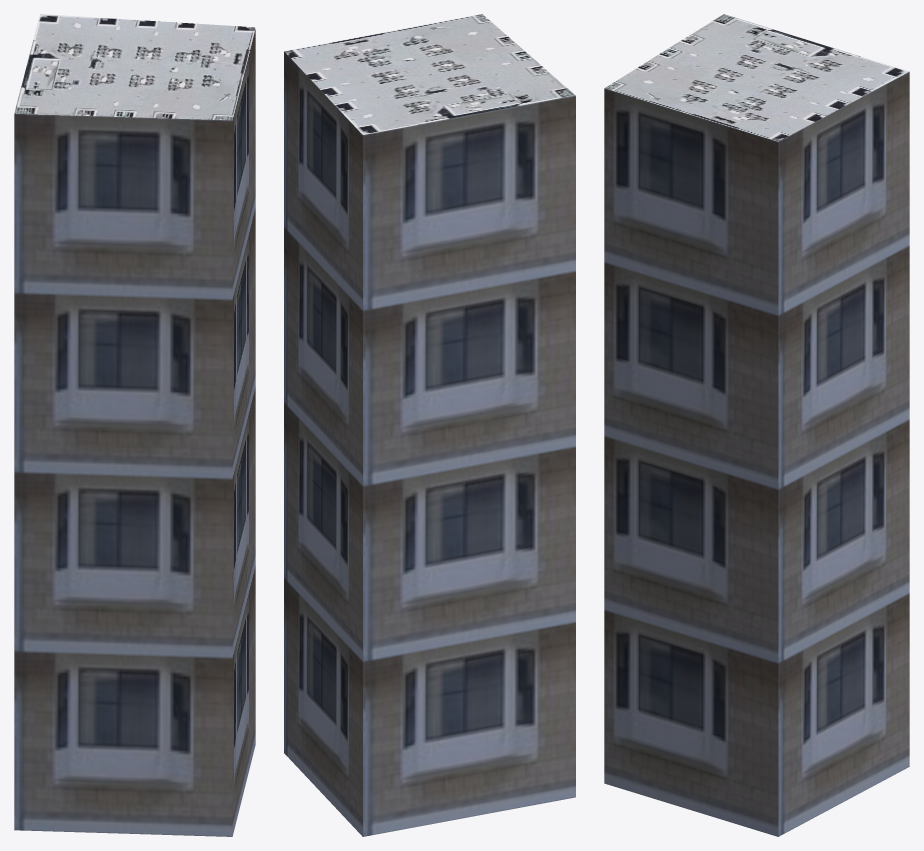
File: ResTex__3225.fbx
The picture shows the model from 3 angles, left to right: view 1: azimuth 30°, elevation 25°; view 2: azimuth 150°, elevation 25°; view 3: azimuth 270°, elevation 25°; orthographic projection. The views are drawn at different scales.
Parts seen in each view (by area): view 1: CityEngineMaterial_3_m, CityEngineMaterial_4_m; view 2: CityEngineMaterial_3_m, CityEngineMaterial_4_m; view 3: CityEngineMaterial_3_m, CityEngineMaterial_4_m.
Part boxes in pixels (x1,y1,x2,y2): CityEngineMaterial_3_m: (14, 29, 255, 836); CityEngineMaterial_4_m: (14, 14, 255, 120); CityEngineMaterial_3_m: (284, 51, 575, 836); CityEngineMaterial_4_m: (284, 14, 575, 134); CityEngineMaterial_3_m: (604, 71, 909, 836); CityEngineMaterial_4_m: (605, 14, 908, 141).
Bounding box in the file's own units: 4.73 × 12 × 4.77.
Materials: 2 (2 with a texture image).
